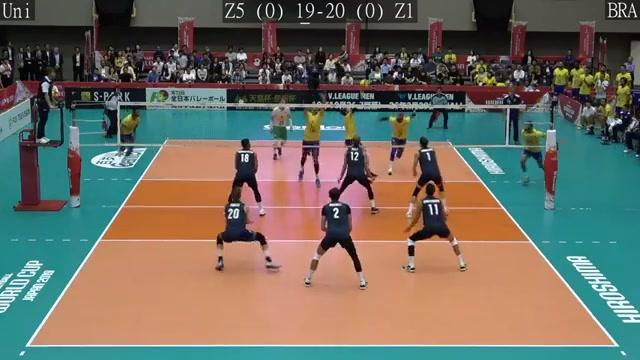ball: (360, 76, 369, 88)
